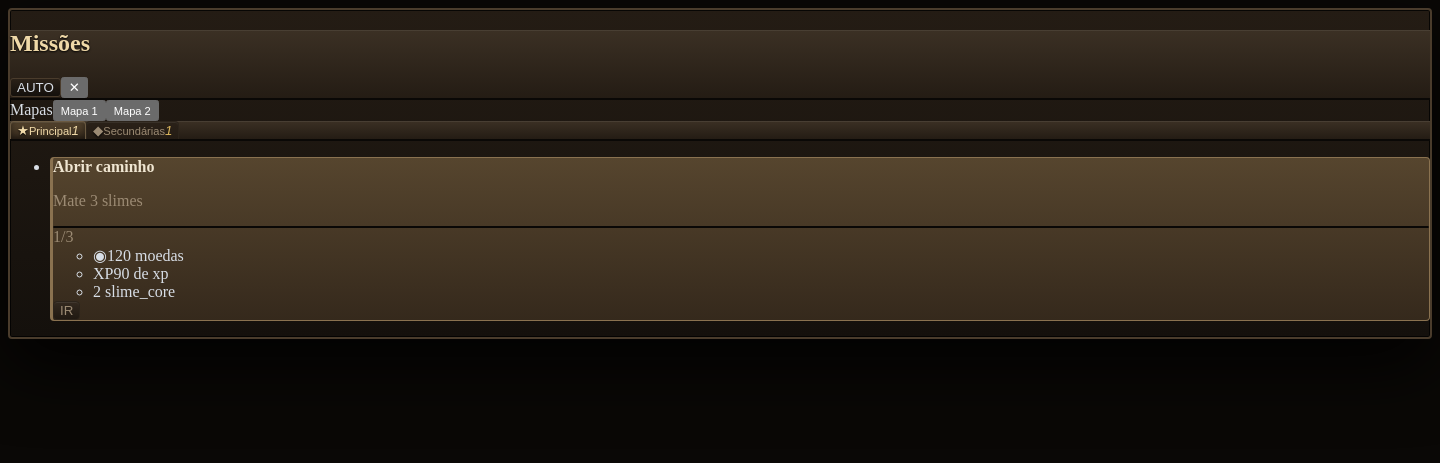
Test case: QuestPanel abas de missao › clicar em secundarias troca o conteudo
This screenshot has width=1440, height=463.
What coordinates should you click on to do the following:
click the tab "◆Secundárias1"
I would click on:
 (133, 130)
Its box is [86,121,179,139].
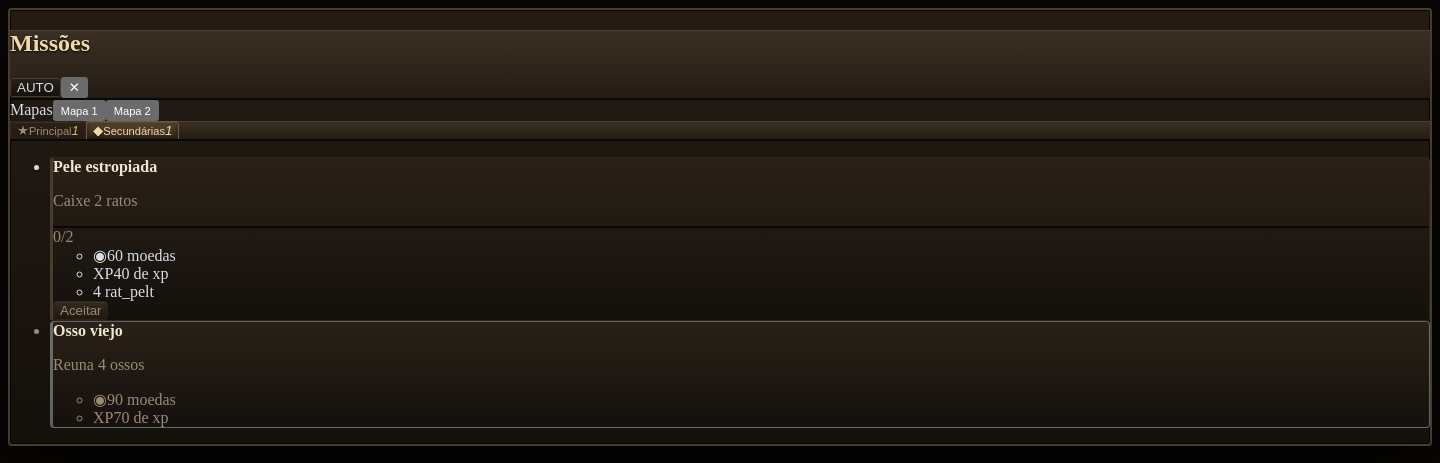
Expected: the text "Pele estropiada" is shown, [53,158,157,175]
Expected: the text "Abrir caminho" is gone
